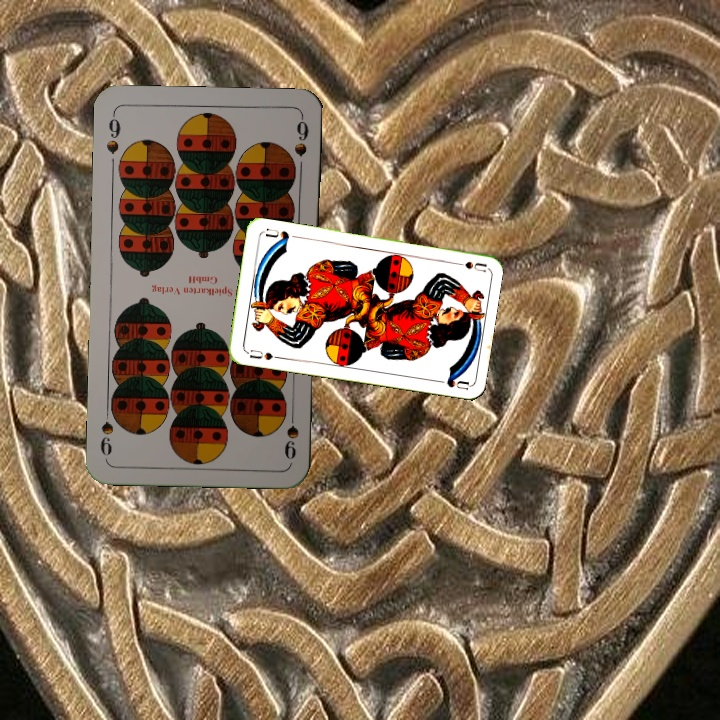S9: (281, 403, 301, 462), (103, 109, 123, 156)
SU: (242, 345, 283, 363), (447, 257, 488, 274)
